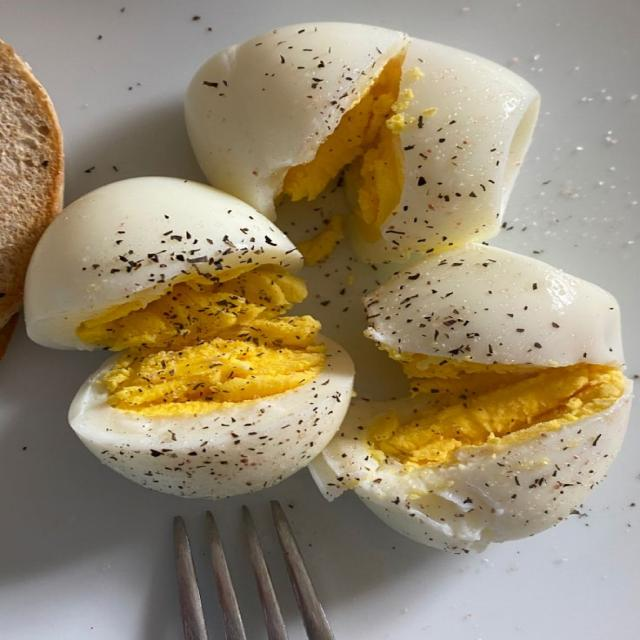egg boiled: (26, 178, 353, 497), (313, 245, 631, 551), (186, 23, 539, 262)
sliced bread: (0, 40, 63, 358)
